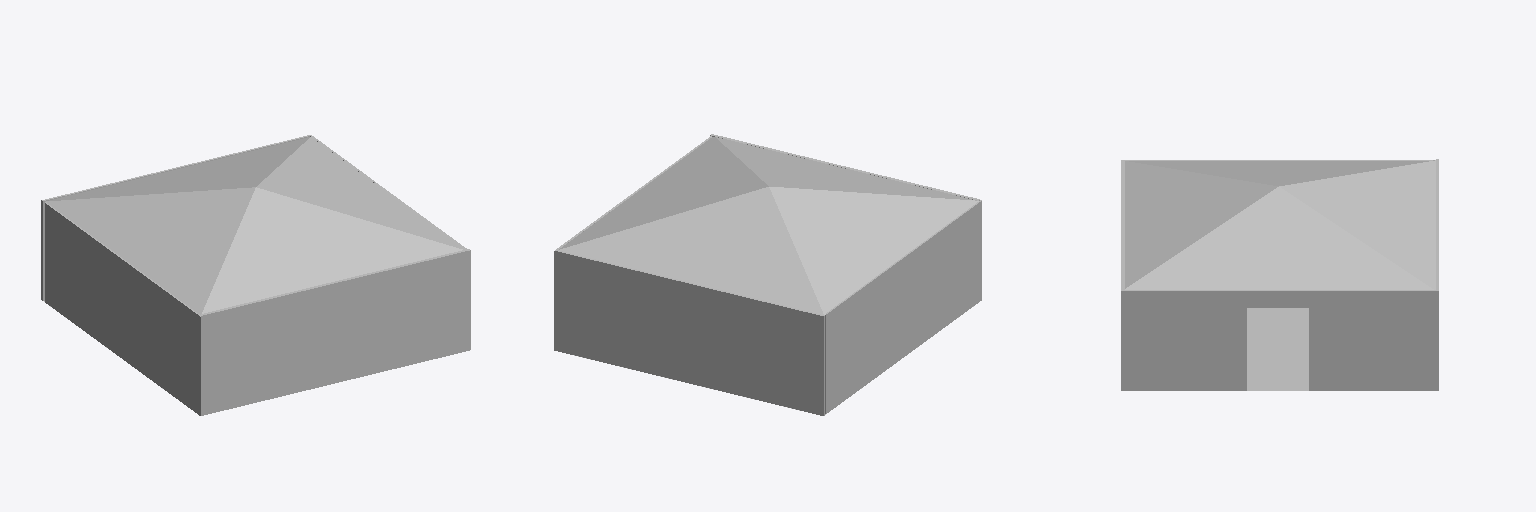
Rendered from house.obj.
3 views of the same model, side by side, from view 1: azimuth 30°, elevation 25°; view 2: azimuth 150°, elevation 25°; view 3: azimuth 270°, elevation 25° (orthographic).
Visible parts, largest first — view 1: Pyramid001, Box001, Box002, Box003; view 2: Pyramid001, Box003, Box002, Box001; view 3: Pyramid001, Box005, Box004, Plane001, Box008, Box001.
Boxes of the visible parts, x1=… form: Pyramid001: x1=45, y1=137, x2=464, y2=314; Box001: x1=201, y1=249, x2=470, y2=415; Box002: x1=45, y1=202, x2=202, y2=415; Box003: x1=41, y1=135, x2=311, y2=300; Pyramid001: x1=559, y1=137, x2=978, y2=314; Box003: x1=555, y1=250, x2=824, y2=415; Box002: x1=825, y1=200, x2=981, y2=413; Box001: x1=710, y1=134, x2=979, y2=200; Pyramid001: x1=1125, y1=160, x2=1435, y2=289; Box005: x1=1309, y1=290, x2=1438, y2=390; Box004: x1=1125, y1=290, x2=1246, y2=390; Plane001: x1=1247, y1=308, x2=1308, y2=390; Box008: x1=1245, y1=290, x2=1308, y2=307; Box001: x1=1121, y1=160, x2=1124, y2=390.
Bounding box in the file's own units: 120 × 58.67 × 122.